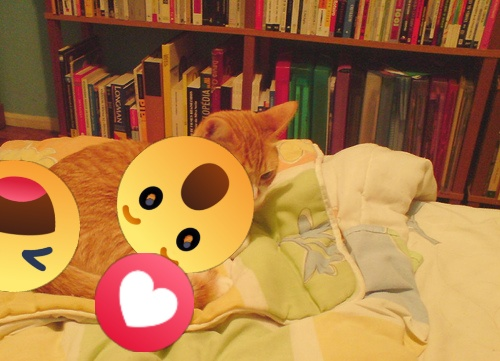haha: (0, 160, 80, 292)
love: (95, 253, 194, 352)
wow: (117, 136, 254, 273)
